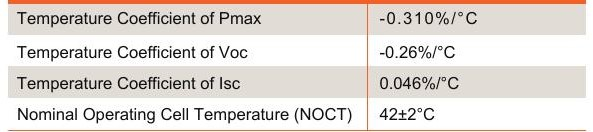table: (2, 1, 590, 132)
table row: (11, 3, 363, 129), (372, 3, 583, 129), (7, 38, 588, 66), (6, 100, 589, 127), (7, 69, 589, 96), (7, 7, 587, 33)
